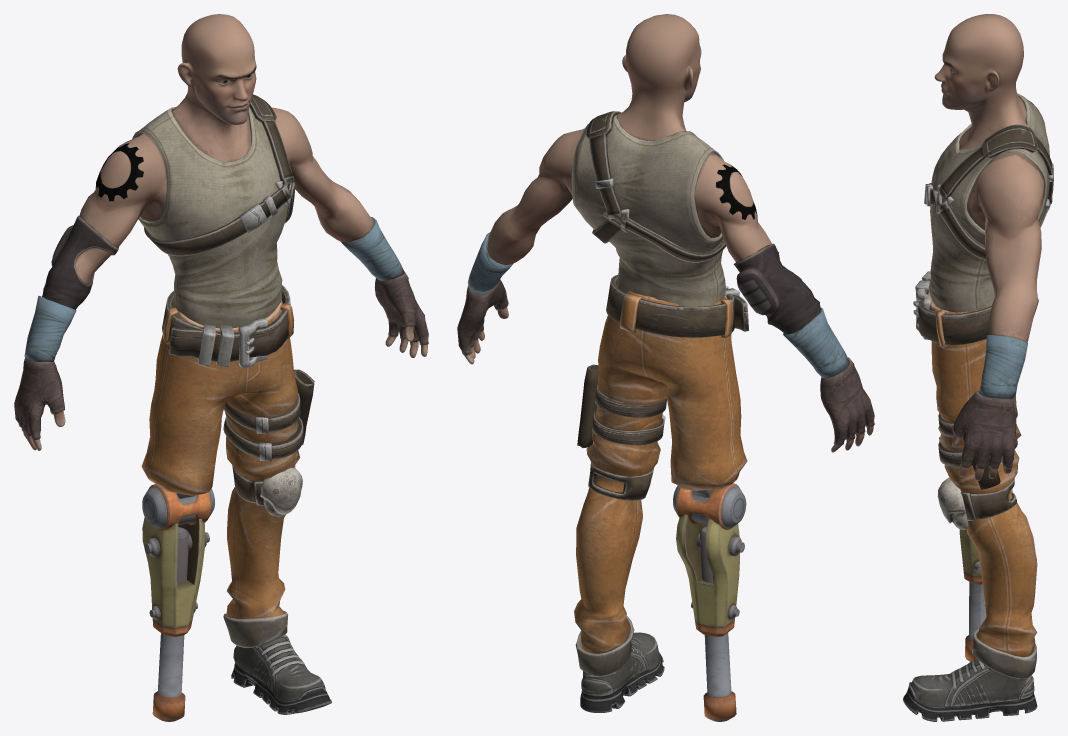
The model's file is Mechanic_Change.fbx.
3 renders of one model, left to right at view 1: azimuth 30°, elevation 25°; view 2: azimuth 150°, elevation 25°; view 3: azimuth 270°, elevation 25°, orthographic. The views are drawn at different scales.
Parts seen in each view (by area): view 1: Mechanic; view 2: Mechanic; view 3: Mechanic.
Part boxes in pixels (<box>): Mechanic: <box>14,14,428,721</box>; Mechanic: <box>457,14,874,721</box>; Mechanic: <box>903,14,1053,721</box>.
Bounding box in the file's own units: 1.16 × 1.91 × 0.3899.
3 materials, 3 textured.
